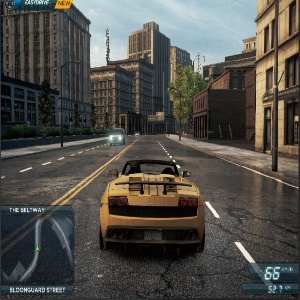building: (92, 40, 169, 135), (190, 83, 249, 139)
lamp post: (268, 1, 288, 176), (59, 56, 81, 147), (166, 84, 185, 141)
tree: (172, 67, 206, 140), (39, 82, 56, 131), (71, 103, 79, 132)
vehicle: (106, 127, 129, 146)
